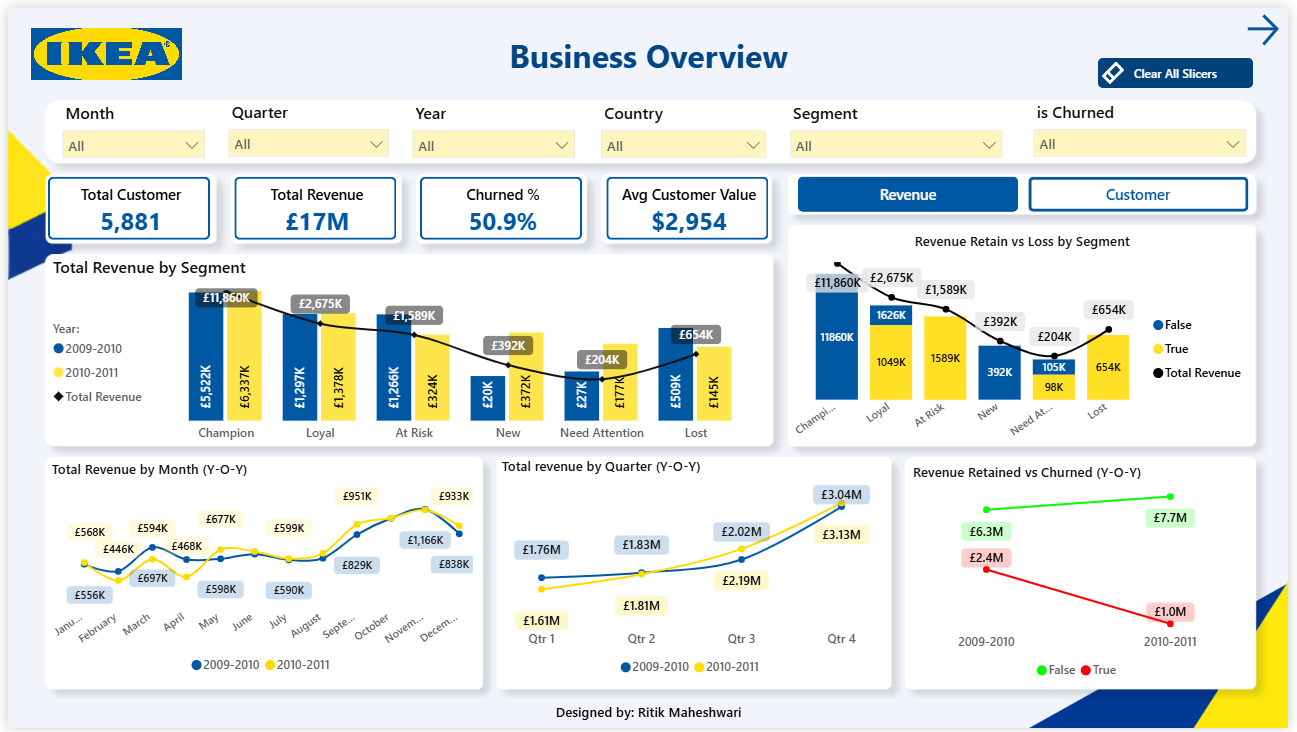

Layout of this report page (visuals, bound fields, positions):
{"tool":"powerbi","page":{"name":"Overview","canvas":[1280,720],"ordinal":0},"visuals":[{"type":"cardVisual","fields":{"Data":["Sheet1.Total Customer","Sheet1.Total Revenue","Sheet1.Churned Rate","Sheet1.Avg Customer Value"]},"box":[40,169,720,63],"z":0},{"type":"clusteredColumnChart","title":" Total Customer by Segment","fields":{"Category":["Segment_order.Segment Type"],"Y":["Sheet1.Total Customer"],"Series":["Sheet1.SourceSheet"]},"box":[42.6,249.5,717.5,185],"z":0,"group":"g1"},{"type":"slicer","fields":{"Values":["Sheet1.InvoiceDate.Variation.Date Hierarchy.Month"]},"box":[42.5,93.8,166.2,60],"z":1000},{"type":"lineStackedColumnComboChart","title":"Customer Retention vs Churned  by Segment","fields":{"Category":["Segment_order.Segment Type"],"Y":["Sheet1.Total Customer"],"Series":["Sheet1.isChurned"],"Y2":["Sheet1.Total Customer"]},"box":[783.4,222,461.4,215.7],"z":1000,"group":"g1"},{"type":"slicer","fields":{"Values":["Sheet1.SourceSheet"]},"box":[392.5,93.8,186.2,60],"z":2000},{"type":"lineChart","title":"Total Customers by Month  (Y-O-Y)","fields":{"Category":["Sheet1.InvoiceDate.Variation.Date Hierarchy.Month"],"Y":["Sheet1.Total Customer"],"Series":["Sheet1.SourceSheet"]},"box":[42.5,450,430,226.2],"z":2000,"group":"g1"},{"type":"slicer","fields":{"Values":["Sheet1.InvoiceDate.Variation.Date Hierarchy.Quarter"]},"box":[208.6,93,184.3,60],"z":3000},{"type":"lineChart","title":"Total Customers by Quarter (Y-O-Y)","fields":{"Category":["Sheet1.InvoiceDate.Variation.Date Hierarchy.Quarter"],"Y":["Sheet1.Total Customer"],"Series":["Sheet1.SourceSheet"]},"box":[488.9,453.2,390,225],"z":3000,"group":"g1"},{"type":"slicer","fields":{"Values":["Sheet1.Country"]},"box":[581.2,93.8,188.8,60],"z":4000},{"type":"lineChart","title":"Total Customers Retained vs Churned (Y-o-Y)","fields":{"Y":["Sheet1.Total Customer"],"Series":["Sheet1.isChurned"],"Category":["YearOrder.Year"]},"box":[899.4,454.3,345.1,223.1],"z":4000,"group":"g1"},{"type":"slicer","title":"Segment","fields":{"Values":["Sheet1.Customer_Value"]},"box":[770,93.8,236,60],"z":5000},{"type":"slicer","fields":{"Values":["Sheet1.isChurned"]},"box":[1013.8,93,236,60],"z":6000},{"type":"image","box":[0,19.7,196.4,52],"z":7000},{"type":"textbox","box":[464.6,20.8,351.3,59.2],"z":8000},{"type":"bookmarkNavigator","box":[790,169,450,35],"z":9000},{"type":"textbox","box":[535.6,690,208.8,30],"z":10000},{"type":"actionButton","box":[1233.8,1.2,46.2,41.2],"z":11000},{"type":"actionButton","box":[1090,50,155,30],"z":12000},{"type":"group","id":"g1","title":"Customer","box":[42.5,222,1202.4,456.2],"z":14000}]}

Visuals, with their boxes in screenshot pixels (x1, y1, x2, y2), scaled from the page's 1280x720 canvas onto the 1297x732 screenshot:
cardVisual - Sheet1.Total Customer x Sheet1.Total Revenue: [x1=41, y1=172, x2=770, y2=236]
" Total Customer by Segment" clusteredColumnChart: [x1=43, y1=254, x2=770, y2=442]
slicer - Sheet1.InvoiceDate.Variation.Date Hierarchy.Month: [x1=43, y1=95, x2=211, y2=156]
"Customer Retention vs Churned  by Segment" lineStackedColumnComboChart: [x1=794, y1=226, x2=1261, y2=445]
slicer - Sheet1.SourceSheet: [x1=398, y1=95, x2=586, y2=156]
"Total Customers by Month  (Y-O-Y)" lineChart: [x1=43, y1=458, x2=479, y2=687]
slicer - Sheet1.InvoiceDate.Variation.Date Hierarchy.Quarter: [x1=211, y1=95, x2=398, y2=156]
"Total Customers by Quarter (Y-O-Y)" lineChart: [x1=495, y1=461, x2=891, y2=690]
slicer - Sheet1.Country: [x1=589, y1=95, x2=780, y2=156]
"Total Customers Retained vs Churned (Y-o-Y)" lineChart: [x1=911, y1=462, x2=1261, y2=689]
"Segment" slicer: [x1=780, y1=95, x2=1019, y2=156]
slicer - Sheet1.isChurned: [x1=1027, y1=95, x2=1266, y2=156]
image: [x1=0, y1=20, x2=199, y2=73]
textbox: [x1=471, y1=21, x2=827, y2=81]
bookmarkNavigator: [x1=800, y1=172, x2=1256, y2=207]
textbox: [x1=543, y1=702, x2=754, y2=731]
actionButton: [x1=1250, y1=1, x2=1296, y2=43]
actionButton: [x1=1104, y1=51, x2=1262, y2=81]
"Customer" group: [x1=43, y1=226, x2=1261, y2=690]
